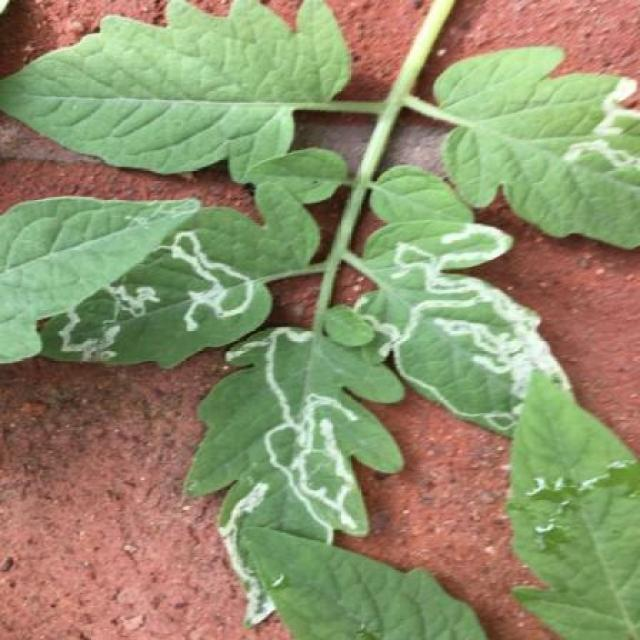Healthy: (0, 0, 353, 189)
Leaf Miner: (186, 324, 404, 624), (359, 224, 572, 434), (430, 45, 640, 252), (44, 222, 277, 369)
